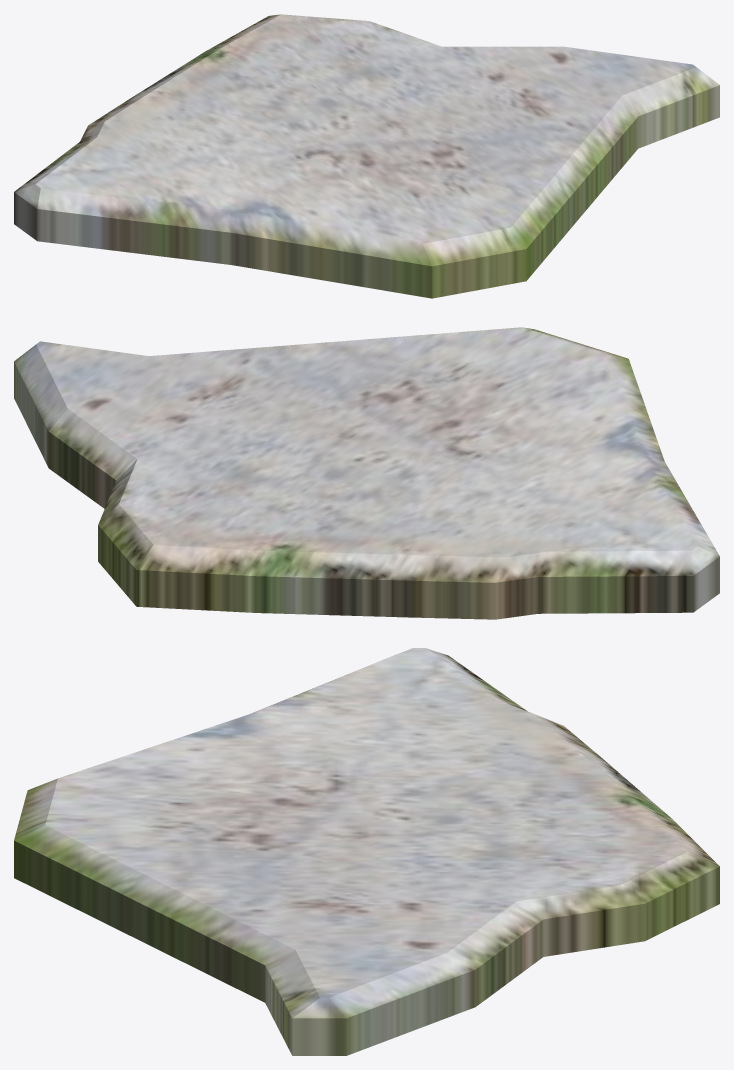
The model's file is stone.05.fbx.
3 views of the same model, one above another, from view 1: azimuth 30°, elevation 25°; view 2: azimuth 150°, elevation 25°; view 3: azimuth 270°, elevation 25° (orthographic). The views are drawn at different scales.
Parts seen in each view (by area): view 1: stone.05; view 2: stone.05; view 3: stone.05.
Part boxes in pixels (bbox=[...]): stone.05: bbox=[14, 14, 719, 298]; stone.05: bbox=[14, 327, 719, 619]; stone.05: bbox=[14, 648, 719, 1055].
Bounding box in the file's own units: 147 × 9.74 × 121.
1 material, 1 textured.
